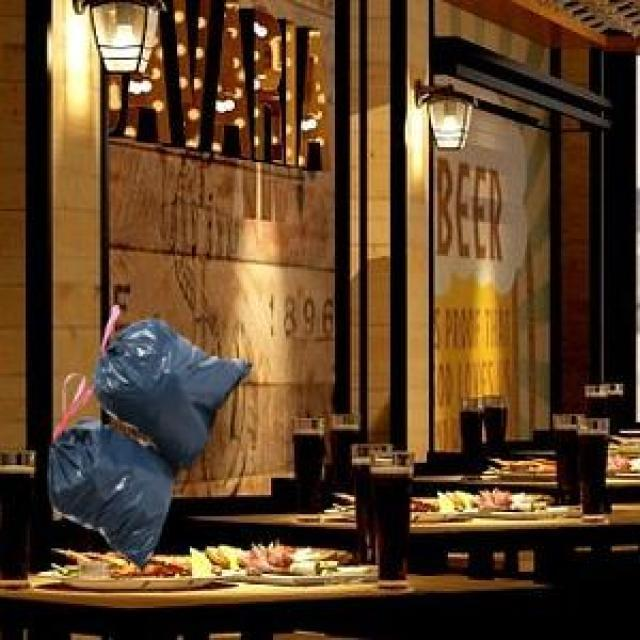miscellaneous trash: (45, 301, 248, 568)
